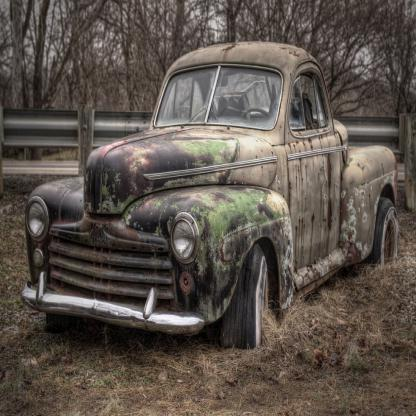Car: (21, 41, 399, 349)
Truck: (21, 42, 399, 350)
